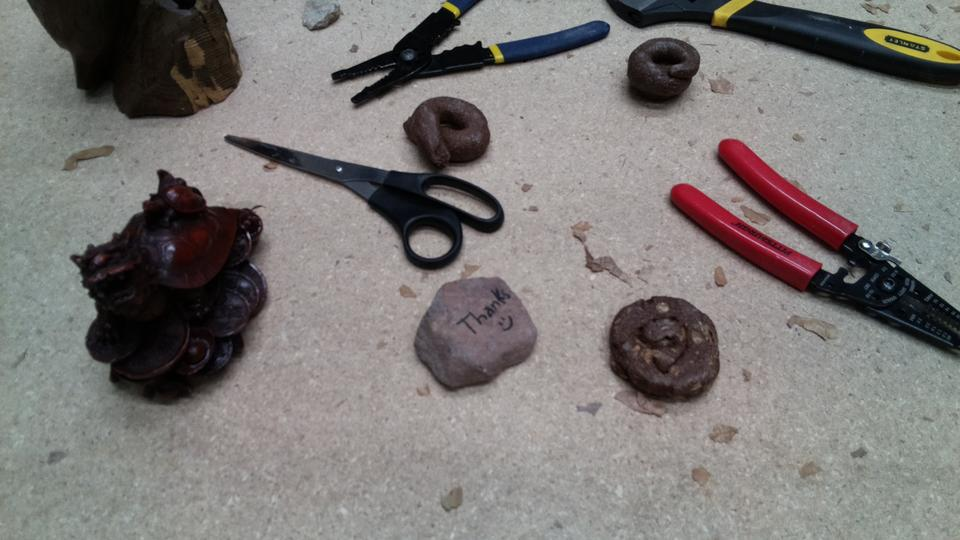poop: (607, 293, 725, 406), (401, 93, 492, 173), (624, 35, 704, 110)
